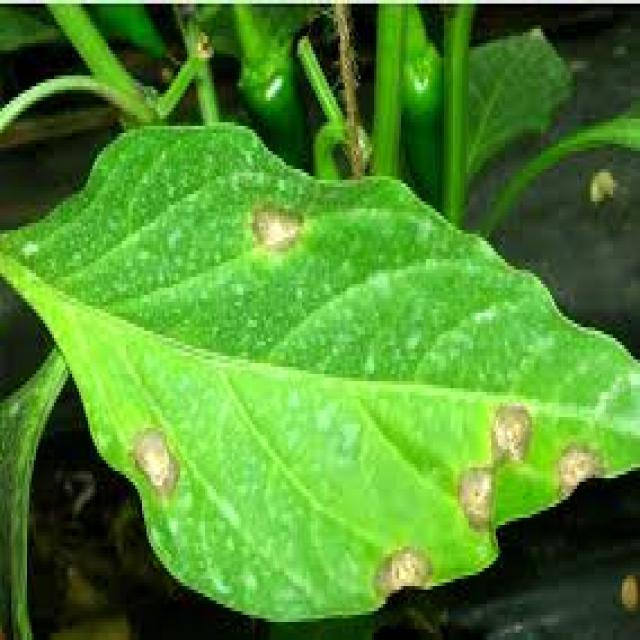bercak_daun: (52, 120, 640, 624)
